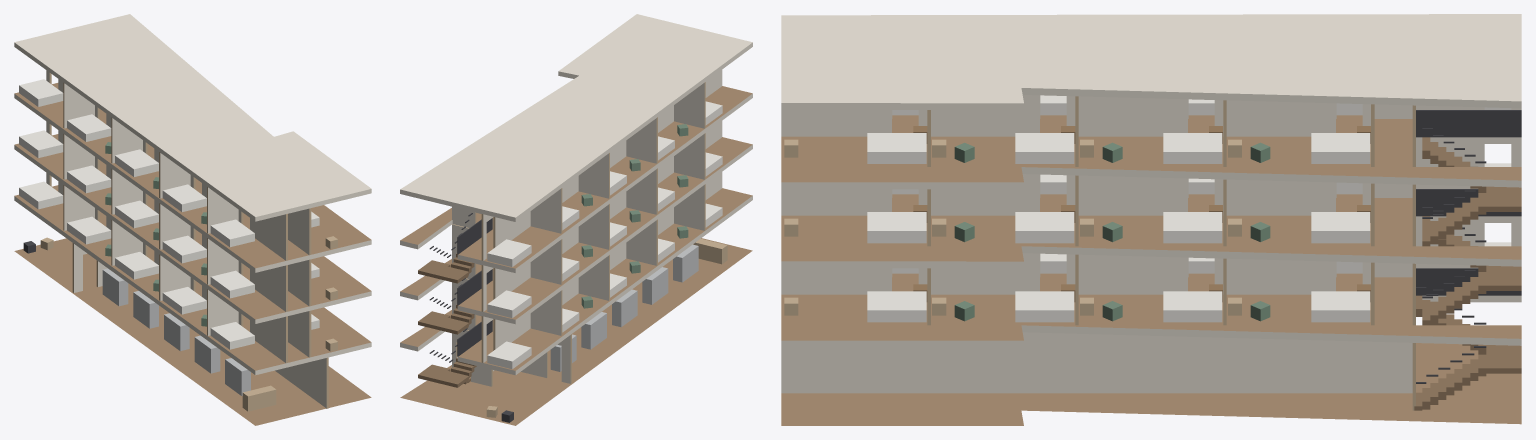
Rendered from interior.glb.
3 renders of one model, left to right at view 1: azimuth 30°, elevation 25°; view 2: azimuth 150°, elevation 25°; view 3: azimuth 270°, elevation 25°, orthographic. The views are drawn at different scales.
Parts seen in each view (by area): view 1: slabs, partitions, coarse-s0, coarse-s1, coarse-s2, coarse-s3; view 2: slabs, partitions, stair, coarse-s0, coarse-s1, coarse-s3, coarse-s2; view 3: slabs, partitions, stair, coarse-s1, coarse-s2, coarse-s3.
Boxes of the visible parts, x1,y1,x2,y2 form: slabs: (14, 14, 371, 425); partitions: (46, 70, 328, 408); coarse-s0: (23, 237, 276, 411); coarse-s1: (19, 181, 337, 351); coarse-s2: (19, 130, 337, 300); coarse-s3: (19, 79, 337, 248); slabs: (400, 14, 752, 425); partitions: (452, 70, 722, 386); stair: (418, 213, 492, 387); coarse-s0: (486, 238, 727, 422); coarse-s1: (487, 203, 722, 369); coarse-s3: (487, 101, 722, 266); coarse-s2: (487, 152, 722, 318); slabs: (781, 14, 1521, 425); partitions: (781, 95, 1521, 410); stair: (1414, 110, 1521, 410); coarse-s1: (784, 242, 1511, 322); coarse-s2: (784, 163, 1511, 243); coarse-s3: (784, 95, 1511, 163).
Bounding box in the file's own units: 7.13 × 12.05 × 25.02.
